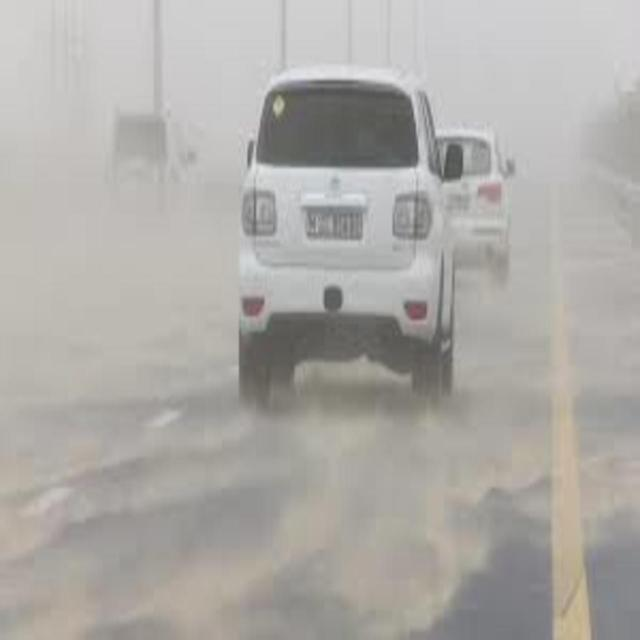bus: (108, 104, 193, 183)
car: (241, 65, 453, 409), (436, 125, 514, 270)
